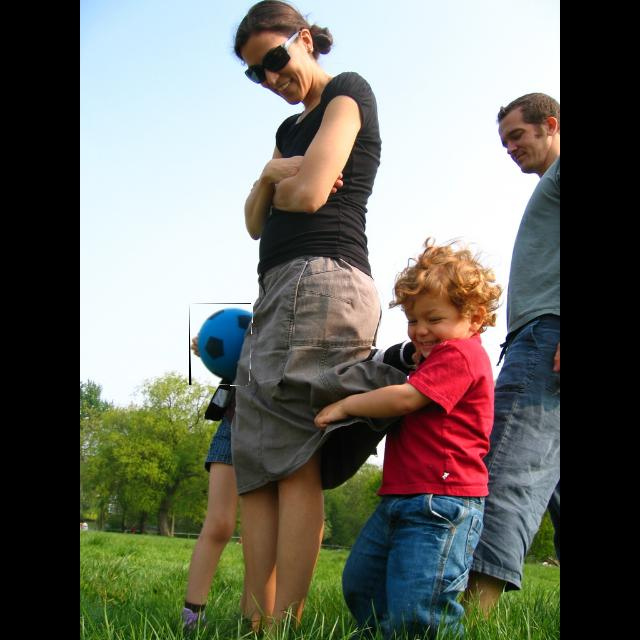Football: (189, 303, 251, 385)
